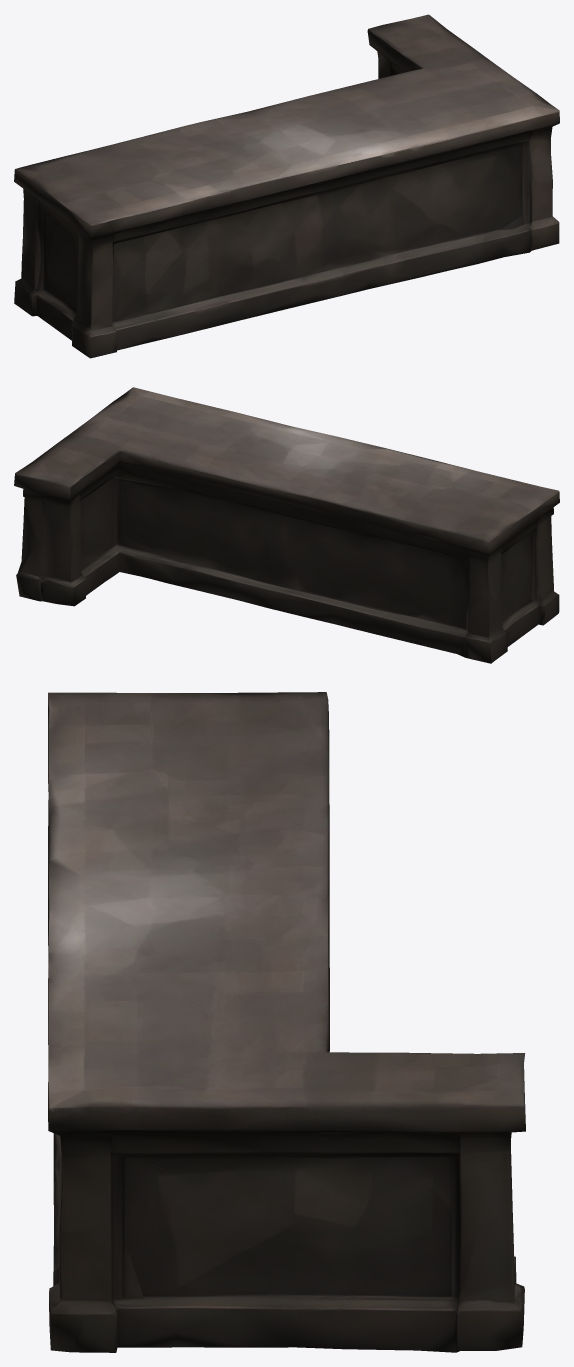
Rendered from precinct_counter.glb.
The picture shows the model from 3 angles, top to bottom: view 1: azimuth 30°, elevation 25°; view 2: azimuth 150°, elevation 25°; view 3: azimuth 270°, elevation 25°; orthographic projection. The views are drawn at different scales.
Parts seen in each view (by area): view 1: tripo_node_749a195e-e4c7-4ef4-856d-29e8827aef86; view 2: tripo_node_749a195e-e4c7-4ef4-856d-29e8827aef86; view 3: tripo_node_749a195e-e4c7-4ef4-856d-29e8827aef86.
Boxes of the visible parts, x1,y1,x2,y2 form: tripo_node_749a195e-e4c7-4ef4-856d-29e8827aef86: [14, 14, 559, 358]; tripo_node_749a195e-e4c7-4ef4-856d-29e8827aef86: [14, 387, 559, 663]; tripo_node_749a195e-e4c7-4ef4-856d-29e8827aef86: [48, 692, 525, 1352].
Bounding box in the file's own units: 1 × 0.2818 × 0.4836.
1 material, 1 textured.
